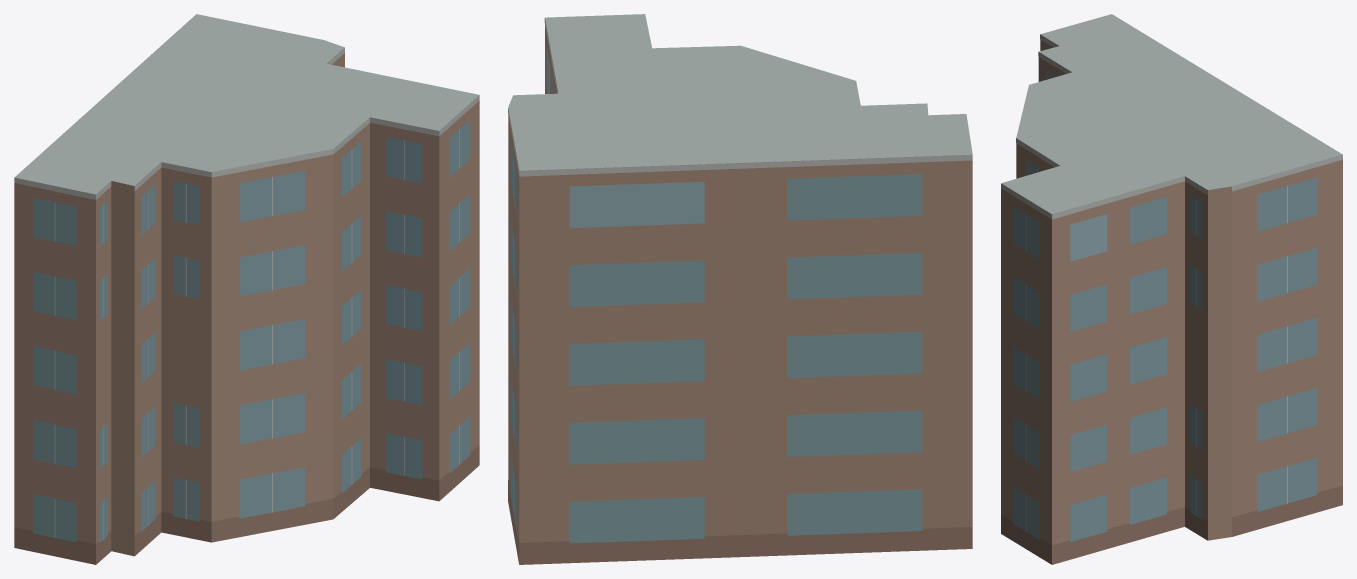
File: survey-upis-32909562.glb
3 views of the same model, side by side, from view 1: azimuth 30°, elevation 25°; view 2: azimuth 150°, elevation 25°; view 3: azimuth 270°, elevation 25° (orthographic). The views are drawn at different scales.
Visible parts, largest first — view 1: survey-upis-32909562.tmp; view 2: survey-upis-32909562.tmp; view 3: survey-upis-32909562.tmp.
Boxes of the visible parts, x1,y1,x2,y2 form: survey-upis-32909562.tmp: [14, 14, 479, 564]; survey-upis-32909562.tmp: [508, 14, 972, 564]; survey-upis-32909562.tmp: [1001, 14, 1342, 564].
Size of the model in its own units: 20.41 by 16.65 by 14.72.
